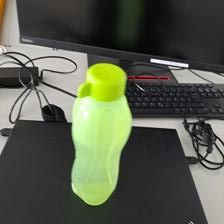bottle: (67, 62, 133, 206)
